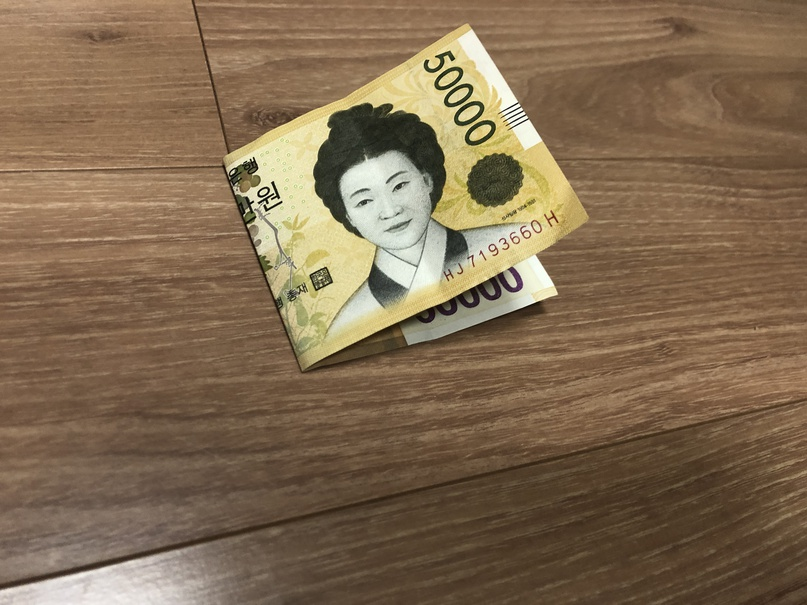50000won: (221, 23, 588, 373)
